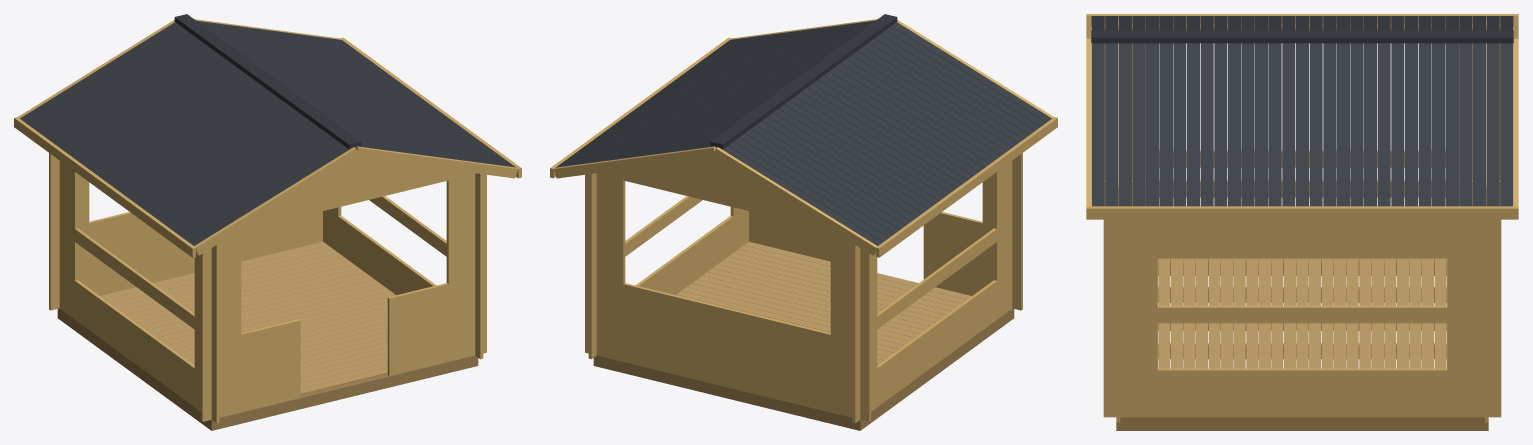
File: мари_3_3_34_мм_открытая_беседка.glb
The picture shows the model from 3 angles, left to right: view 1: azimuth 30°, elevation 25°; view 2: azimuth 150°, elevation 25°; view 3: azimuth 270°, elevation 25°; orthographic projection. The views are drawn at different scales.
Visible parts, largest first — view 1: roof, walls, floor, Мари 3×3 (34 мм, открытая беседка); view 2: roof, walls, floor, Мари 3×3 (34 мм, открытая беседка); view 3: roof, walls, floor, Мари 3×3 (34 мм, открытая беседка).
Part boxes in pixels (x1,y1,x2,y2): roof: (14,14,521,257); walls: (49,153,486,423); floor: (100,241,395,395); Мари 3×3 (34 мм, открытая беседка): (57,308,478,430); roof: (550,14,1057,257); walls: (585,153,1022,423); floor: (676,241,971,365); Мари 3×3 (34 мм, открытая беседка): (593,308,1014,430); roof: (1086,14,1518,219); walls: (1103,19,1501,422); floor: (1157,258,1447,368); Мари 3×3 (34 мм, открытая беседка): (1116,262,1488,430).
Bounding box in the file's own units: 3.71 × 2.83 × 3.48.
